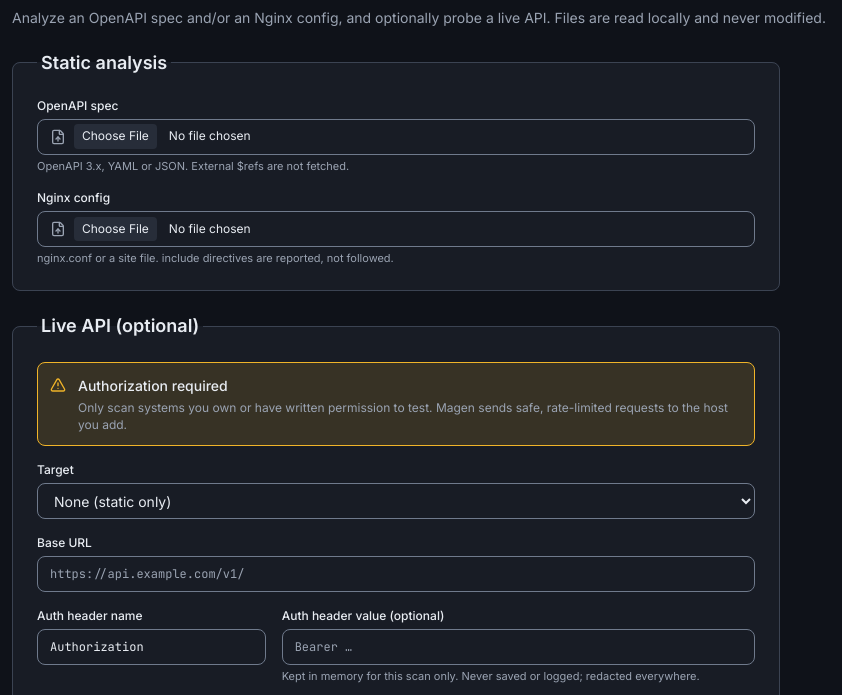
Runtime scan flow › validates that the base URL is on the chosen target
Step 1. Select "127.0.0.1 (local lab)" in the dropdown labelled "Target" → (396, 501), box [37,483,755,519]
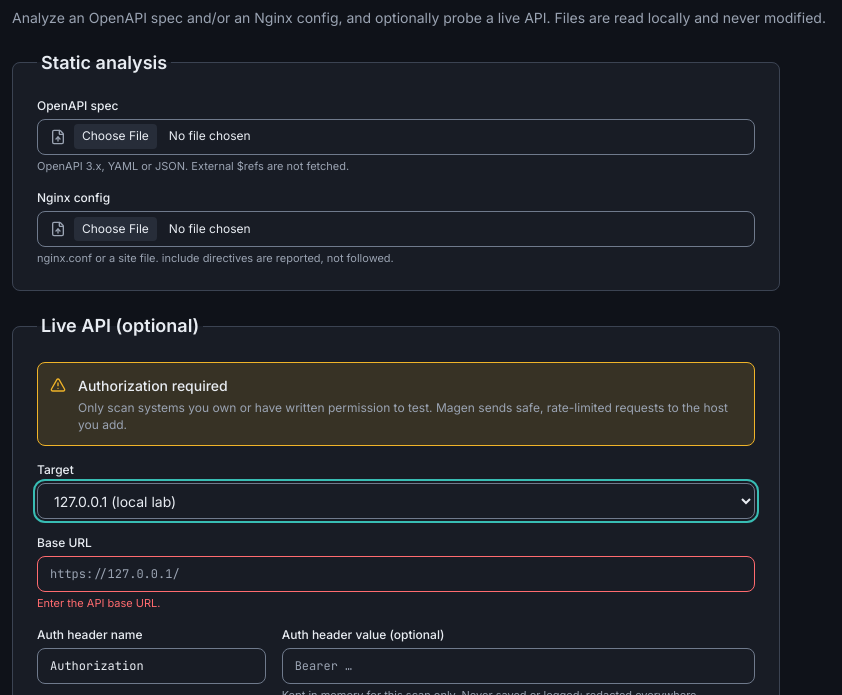
Step 2. Type "http://evil.example.com/" into the field labelled "Base URL" → (396, 574), box [37,556,755,592]
(page scrolled)
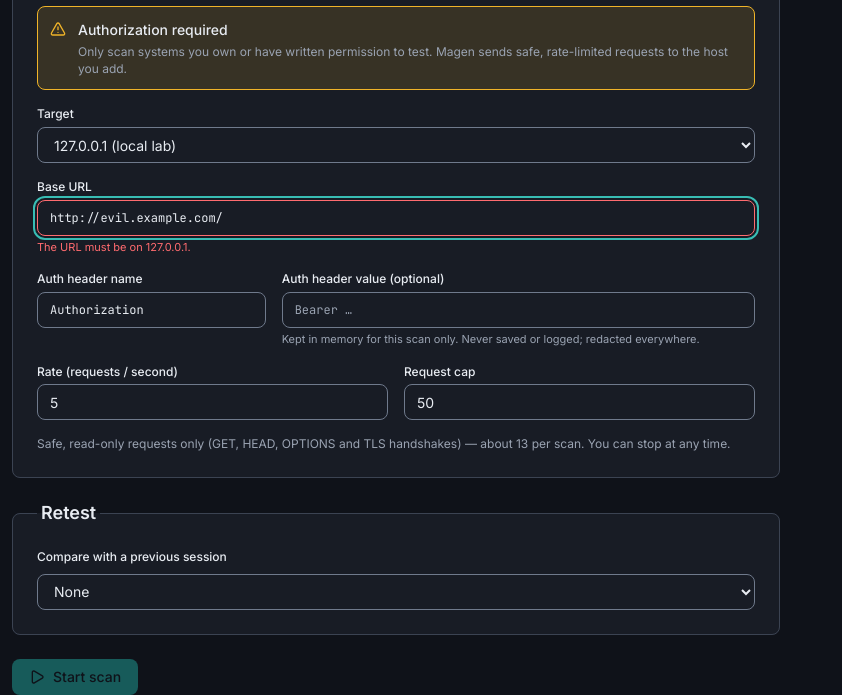
Check: the button "Start scan" is disabled, box [12,658,138,694]
Check: the text "The URL must be on 127.0.0.1." is shown, box [37,240,191,254]
